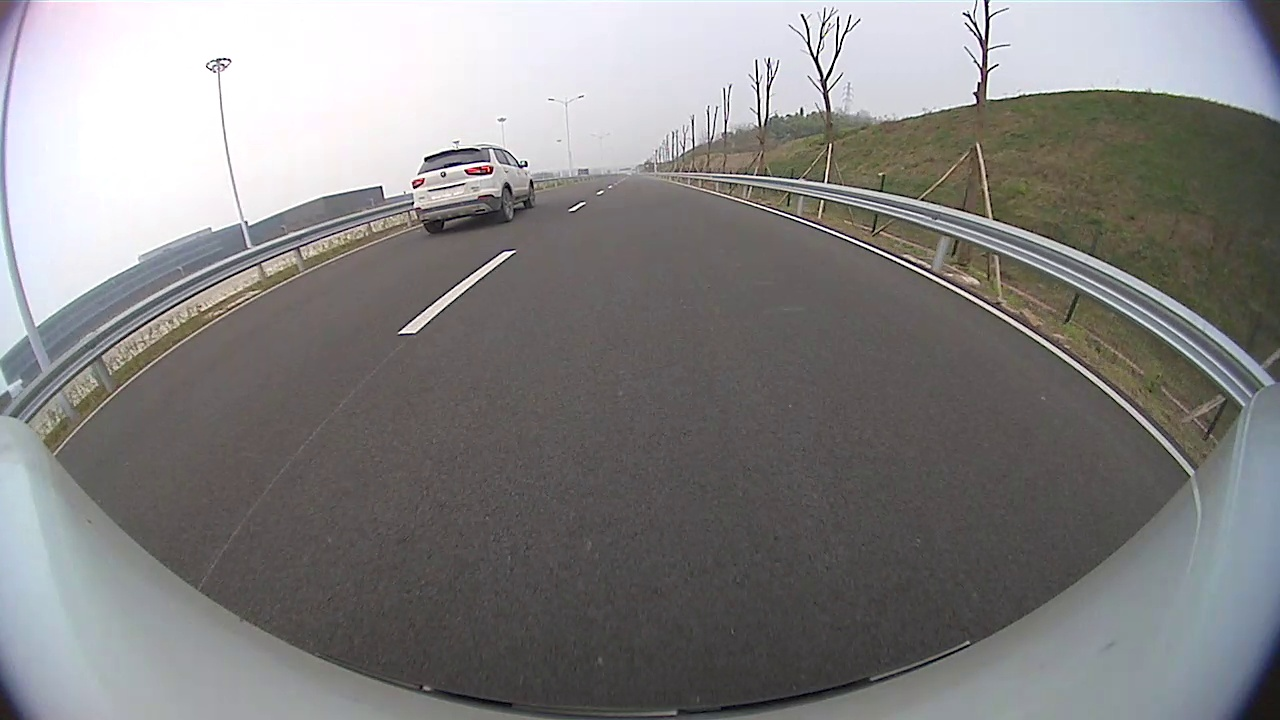car: (411, 143, 539, 237)
front: (528, 186, 536, 209)
rear: (501, 187, 514, 224)
